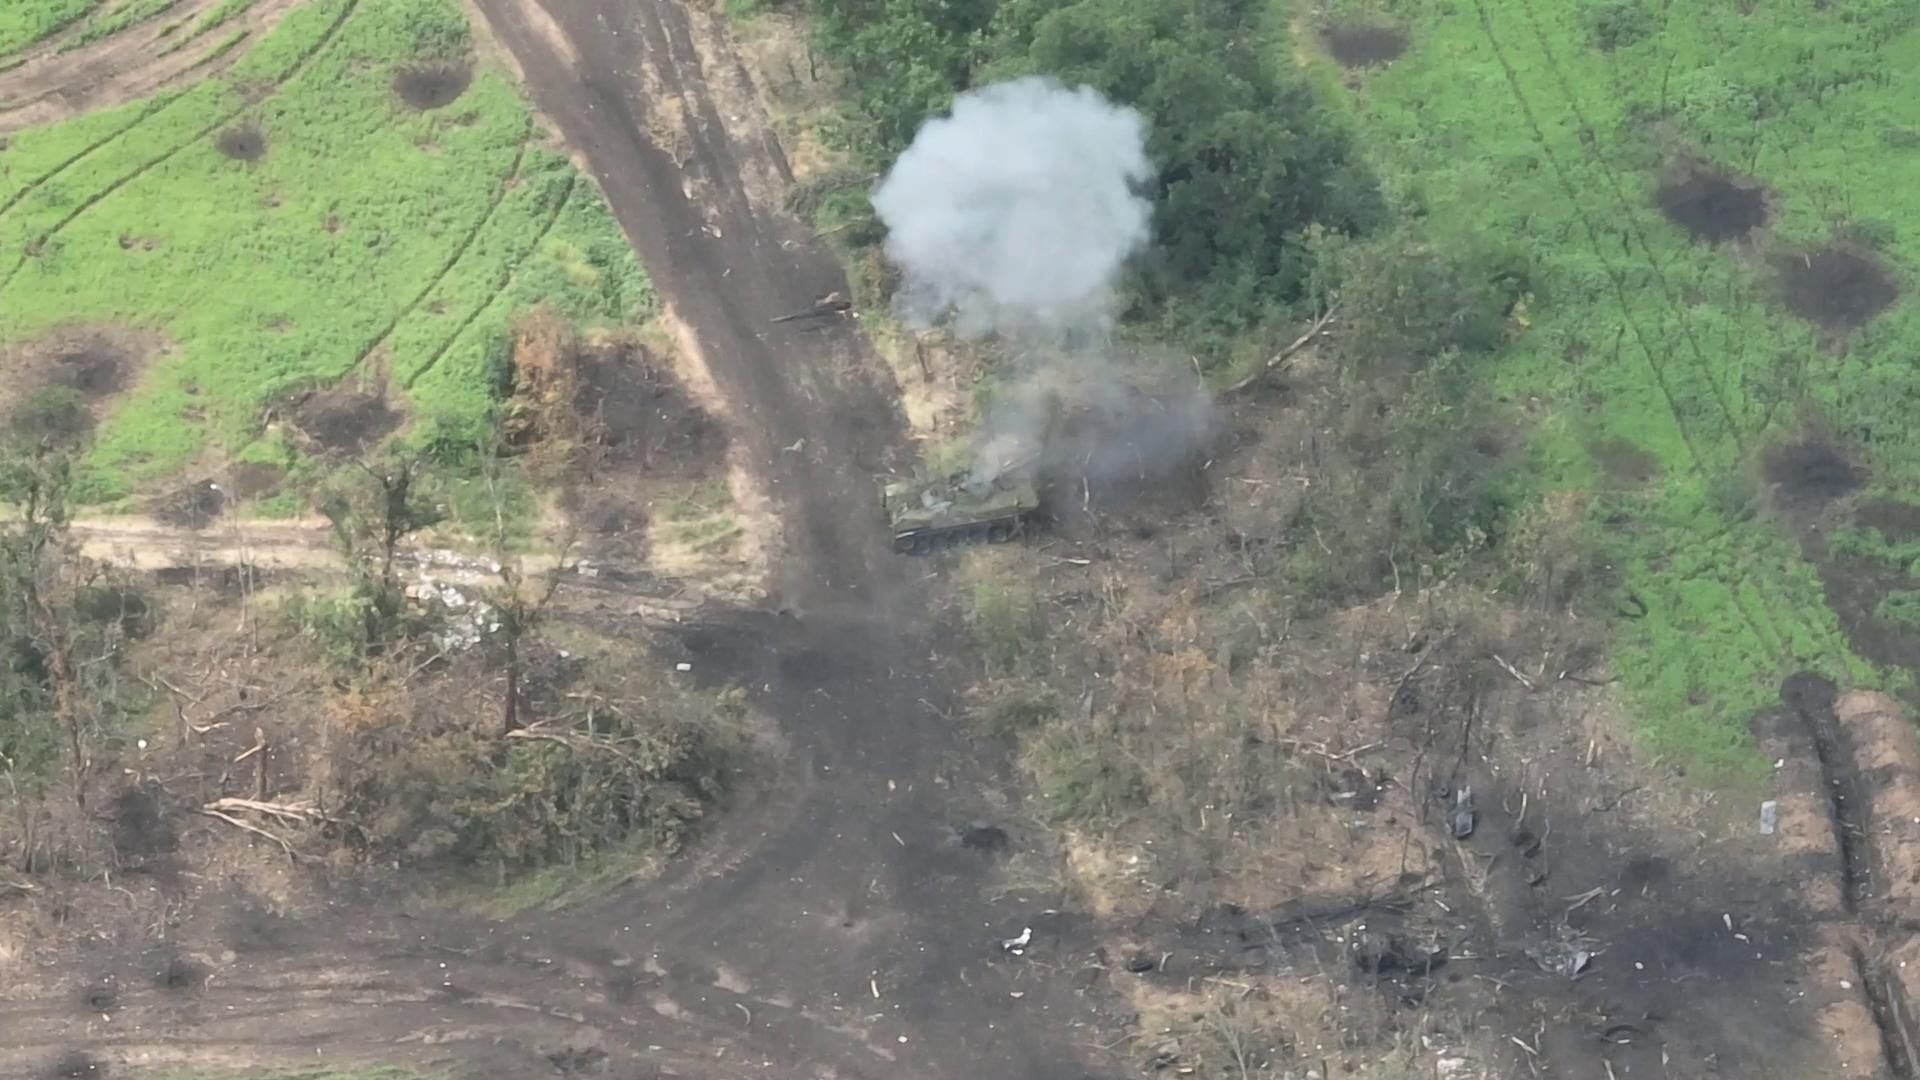tank: (880, 455, 1058, 556)
